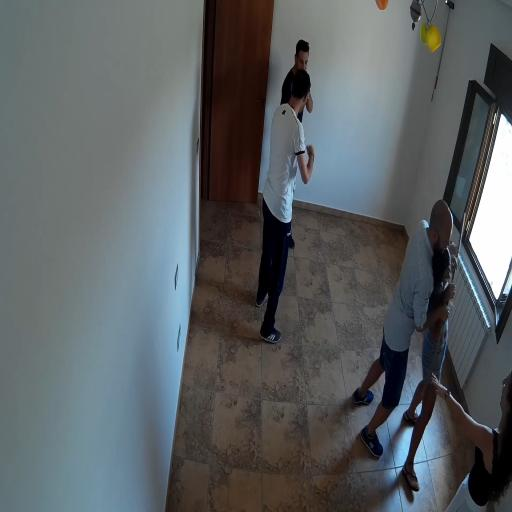violencia: (347, 174, 474, 506), (243, 30, 320, 348)
